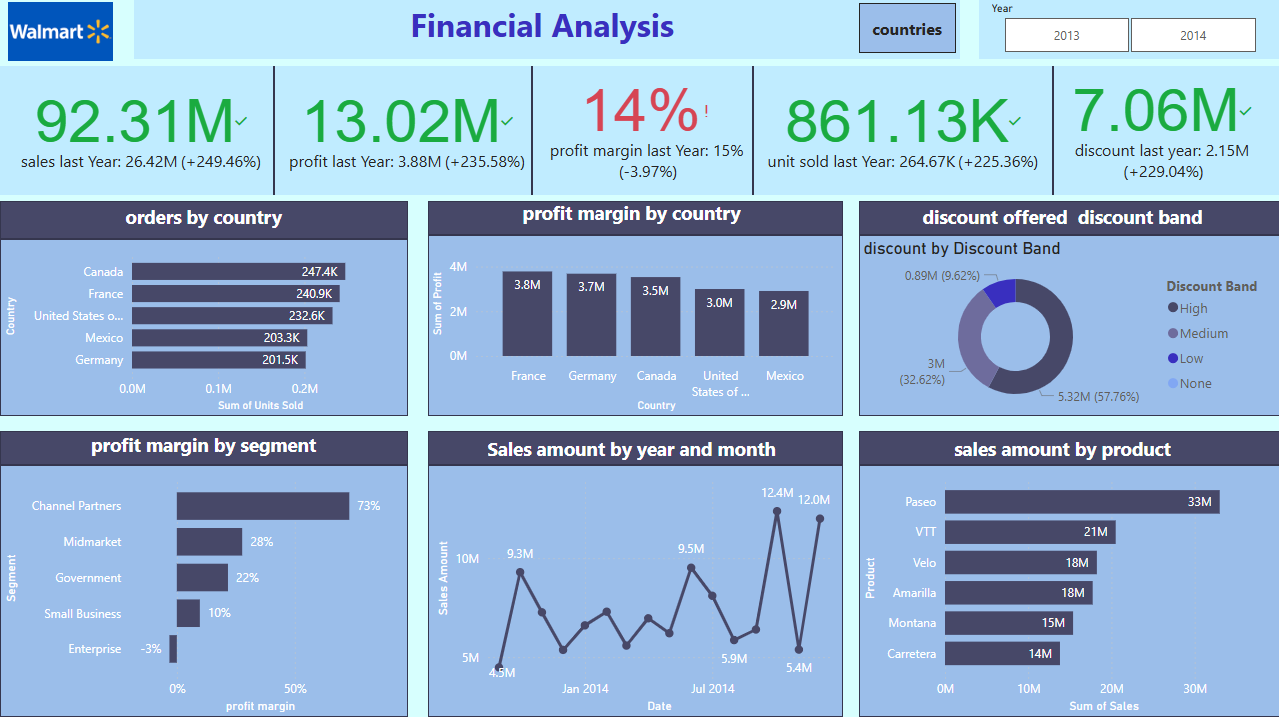

This screenshot's page, from the dashboard's own definition file:
{"tool":"powerbi","page":{"name":"Summary","canvas":[1280,720],"ordinal":0},"visuals":[{"type":"textbox","box":[134,0,826,62],"z":0},{"type":"shape","box":[257,69,34,129],"z":0,"group":"g3"},{"type":"textbox","box":[0,202,408,42],"z":0,"group":"g2"},{"type":"shape","box":[0,204,408,38],"z":0,"group":"g1"},{"type":"slicer","fields":{"Values":["financials.Year"]},"box":[979,0,301,62],"z":500},{"type":"shape","box":[1036,69,34,129],"z":1000,"group":"g3"},{"type":"textbox","box":[428,198,408,42],"z":1000,"group":"g2"},{"type":"group","id":"g1","title":"Group 1","box":[0,204,1280,516],"z":1000},{"type":"shape","box":[0,242,408,177],"z":1000,"group":"g1"},{"type":"shape","box":[515,69,34,129],"z":2000,"group":"g3"},{"type":"group","id":"g2","title":"Group 2","box":[0,198,1267,278],"z":2000},{"type":"textbox","box":[859,202,408,39],"z":2000,"group":"g2"},{"type":"shape","box":[859,204,421,34],"z":2000,"group":"g1"},{"type":"kpi","fields":{"Indicator":["Analysis Table.Sales Amount"],"Goal":["Analysis Table.Sales amount last year"],"TrendLine":["Date table.Date.Variation.Date Hierarchy.Year"]},"box":[0,69,283,129],"z":3000},{"type":"shape","box":[736,69,34,129],"z":3000,"group":"g3"},{"type":"shape","box":[859,238,421,181],"z":3000,"group":"g1"},{"type":"textbox","box":[0,430,408,42],"z":3000,"group":"g2"},{"type":"kpi","fields":{"Indicator":["Analysis Table.profit"],"Goal":["Analysis Table.profit last year"],"TrendLine":["Date table.Date.Variation.Date Hierarchy.Year"]},"box":[283,69,249,129],"z":4000},{"type":"shape","box":[428,204,415,34],"z":4000,"group":"g1"},{"type":"textbox","box":[428,434,408,42],"z":4000,"group":"g2"},{"type":"kpi","fields":{"TrendLine":["Date table.Date.Variation.Date Hierarchy.Year"],"Indicator":["Analysis Table.profit margin"],"Goal":["Analysis Table.profit margin last year"]},"box":[532,69,230,129],"z":5000},{"type":"shape","box":[428,238,415,181],"z":5000,"group":"g1"},{"type":"textbox","box":[859,434,408,42],"z":5000,"group":"g2"},{"type":"kpi","fields":{"Indicator":["Analysis Table.unit sold"],"Goal":["Analysis Table.unit sold last year"],"TrendLine":["Date table.Date.Variation.Date Hierarchy.Year"]},"box":[762,69,283,129],"z":6000},{"type":"shape","box":[0,434,408,34],"z":6000,"group":"g1"},{"type":"kpi","fields":{"Indicator":["Analysis Table.discount"],"Goal":["Analysis Table.discount last year"],"TrendLine":["Date table.Date.Variation.Date Hierarchy.Year"]},"box":[1045,69,235,129],"z":7000},{"type":"shape","box":[0,468,408,252],"z":7000,"group":"g1"},{"type":"group","id":"g3","title":"Group 3","box":[257,69,813,129],"z":8000},{"type":"shape","box":[859,434,421,34],"z":8000,"group":"g1"},{"type":"image","box":[0,0,121,69],"z":9000},{"type":"shape","box":[859,468,421,252],"z":9000,"group":"g1"},{"type":"shape","box":[428,434,415,34],"z":10000,"group":"g1"},{"type":"barChart","fields":{"Category":["financials.Country"],"Y":["Sum(financials.Units Sold)"]},"box":[0,244,408,175],"z":11000},{"type":"shape","box":[428,468,415,252],"z":11000,"group":"g1"},{"type":"columnChart","fields":{"Category":["financials.Country"],"Y":["Sum(financials.Profit)"]},"box":[426.5,240,414,179],"z":12000},{"type":"barChart","fields":{"Y":["Analysis Table.profit margin"],"Category":["financials.Segment"]},"box":[0,468,408,252],"z":13000},{"type":"lineChart","fields":{"Y":["Analysis Table.Sales Amount"],"Category":["financials.Date"]},"box":[432,468,415,252],"z":14000},{"type":"barChart","fields":{"Y":["Sum(financials. Sales)"],"Category":["financials.Product"]},"box":[859,468,421,252],"z":15000},{"type":"donutChart","fields":{"Category":["financials.Discount Band"],"Y":["Analysis Table.discount"]},"box":[859,241,421,178],"z":16000},{"type":"pageNavigator","box":[859,6,97,50],"z":16001}]}

Visuals, with their boxes in screenshot pixels (x1, y1, x2, y2), scaled from the page's 1280x720 canvas onto the 1279x717 screenshot:
textbox: 134,0,959,62
shape: 257,69,291,197
textbox: 0,201,408,243
shape: 0,203,408,241
slicer - financials.Year: 978,0,1278,62
shape: 1035,69,1069,197
textbox: 428,197,835,239
"Group 1" group: 0,203,1278,716
shape: 0,241,408,417
shape: 515,69,549,197
"Group 2" group: 0,197,1266,474
textbox: 858,201,1266,240
shape: 858,203,1278,237
kpi - Analysis Table.Sales Amount x Analysis Table.Sales amount last year: 0,69,283,197
shape: 735,69,769,197
shape: 858,237,1278,417
textbox: 0,428,408,470
kpi - Analysis Table.profit x Analysis Table.profit last year: 283,69,532,197
shape: 428,203,842,237
textbox: 428,432,835,474
kpi - Date table.Date.Variation.Date Hierarchy.Year x Analysis Table.profit margin: 532,69,761,197
shape: 428,237,842,417
textbox: 858,432,1266,474
kpi - Analysis Table.unit sold x Analysis Table.unit sold last year: 761,69,1044,197
shape: 0,432,408,466
kpi - Analysis Table.discount x Analysis Table.discount last year: 1044,69,1278,197
shape: 0,466,408,716
"Group 3" group: 257,69,1069,197
shape: 858,432,1278,466
image: 0,0,121,69
shape: 858,466,1278,716
shape: 428,432,842,466
barChart - financials.Country x Sum(financials.Units Sold): 0,243,408,417
shape: 428,466,842,716
columnChart - financials.Country x Sum(financials.Profit): 426,239,840,417
barChart - Analysis Table.profit margin x financials.Segment: 0,466,408,716
lineChart - Analysis Table.Sales Amount x financials.Date: 432,466,846,716
barChart - Sum(financials. Sales) x financials.Product: 858,466,1278,716
donutChart - financials.Discount Band x Analysis Table.discount: 858,240,1278,417
pageNavigator: 858,6,955,56
